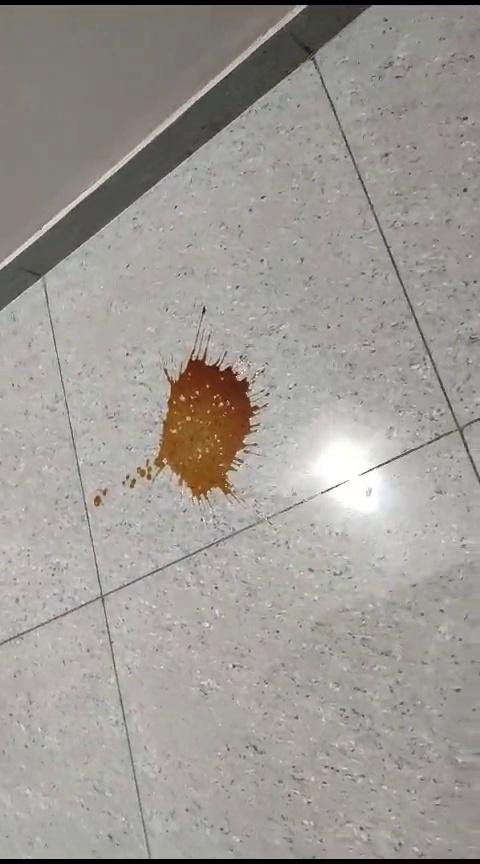dirty_floor: (96, 309, 259, 512)
